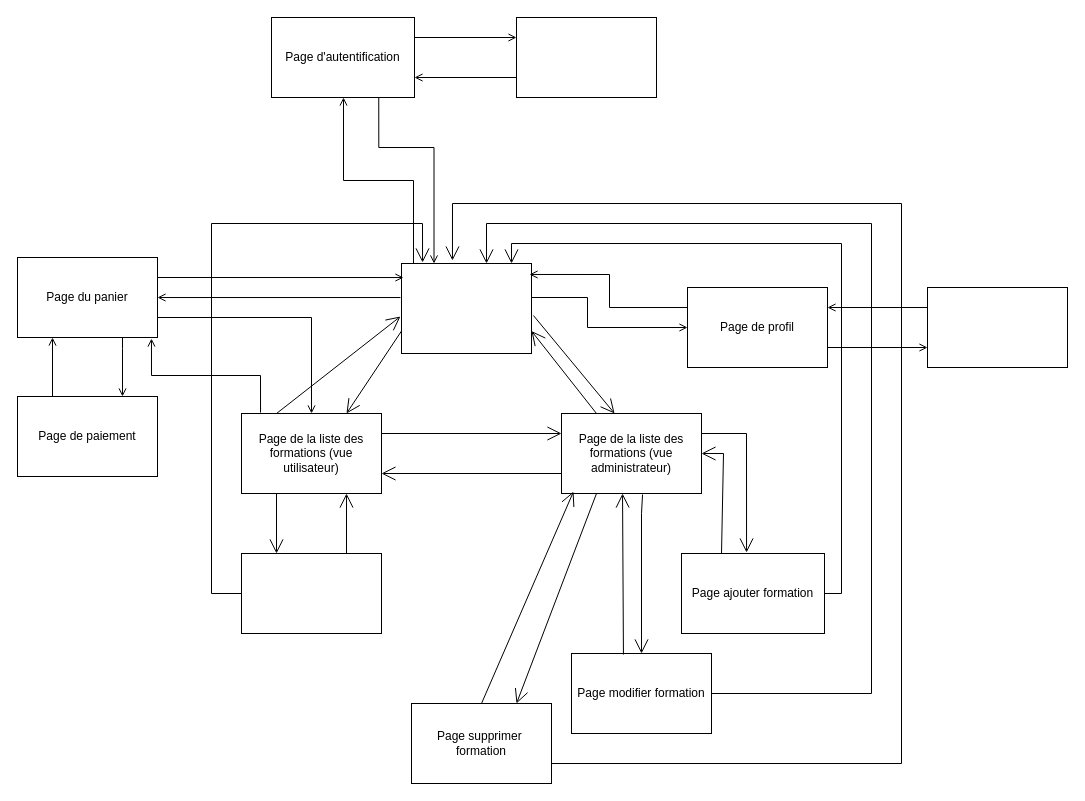
The diagram is 1085 pixels wide and 801 high, and some of its shapes have lost their labels. Each missing label, with the centre of its shape:
"Page d'accueil / de description de la mission" goes at (466,308).
"Page d'inscription" goes at (586,57).
"Page de détail d'une formation" goes at (311,593).
"Page de l'historique des commandes" goes at (997,327).
